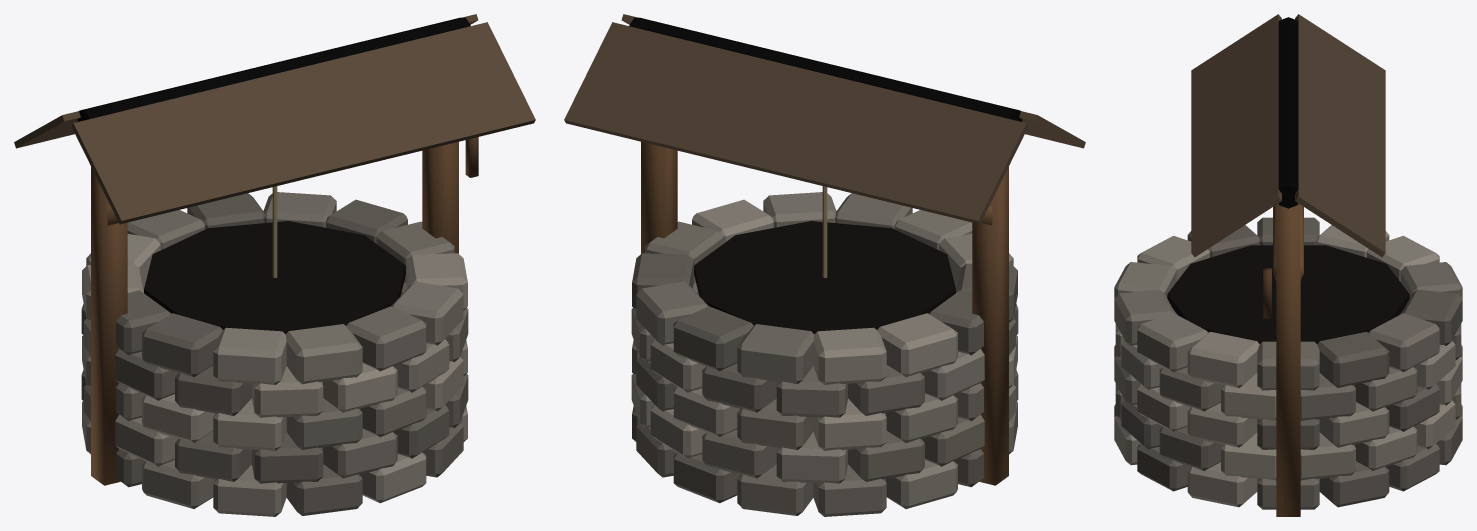
Rendered from well.glb.
The picture shows the model from 3 angles, left to right: view 1: azimuth 30°, elevation 25°; view 2: azimuth 150°, elevation 25°; view 3: azimuth 270°, elevation 25°; orthographic projection. The views are drawn at different scales.
Parts seen in each view (by area): view 1: well_stone, well_roof, well_soot, well_wood; view 2: well_stone, well_roof, well_soot, well_wood; view 3: well_stone, well_roof, well_soot, well_wood.
Boxes of the visible parts, <box> form: well_stone: <box>81,192,468,516</box>; well_roof: <box>14,14,535,224</box>; well_soot: <box>144,221,405,334</box>; well_wood: <box>77,17,478,485</box>; well_stone: <box>631,192,1018,516</box>; well_roof: <box>564,14,1085,224</box>; well_soot: <box>694,221,955,334</box>; well_wood: <box>629,17,1022,485</box>; well_stone: <box>1114,217,1462,509</box>; well_roof: <box>1191,14,1385,257</box>; well_soot: <box>1167,245,1409,343</box>; well_wood: <box>1263,17,1303,516</box>.
Bounding box in the file's own units: 2.5 × 2.15 × 2.02.
